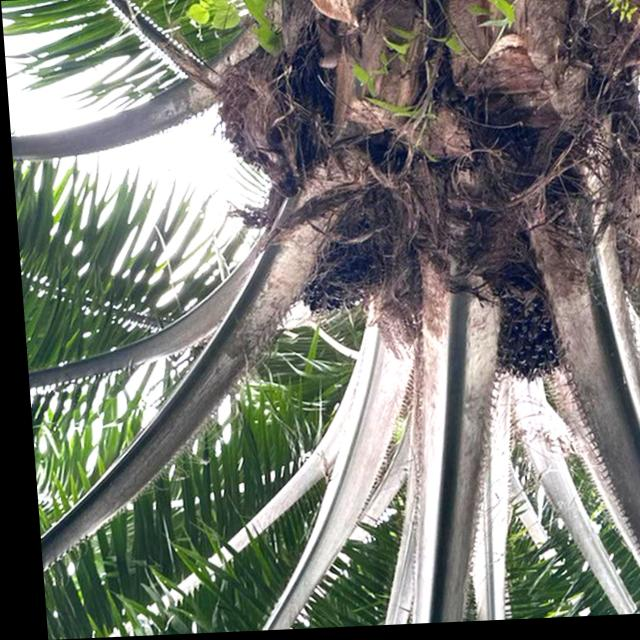unripe: (283, 204, 411, 323), (470, 280, 574, 394)
